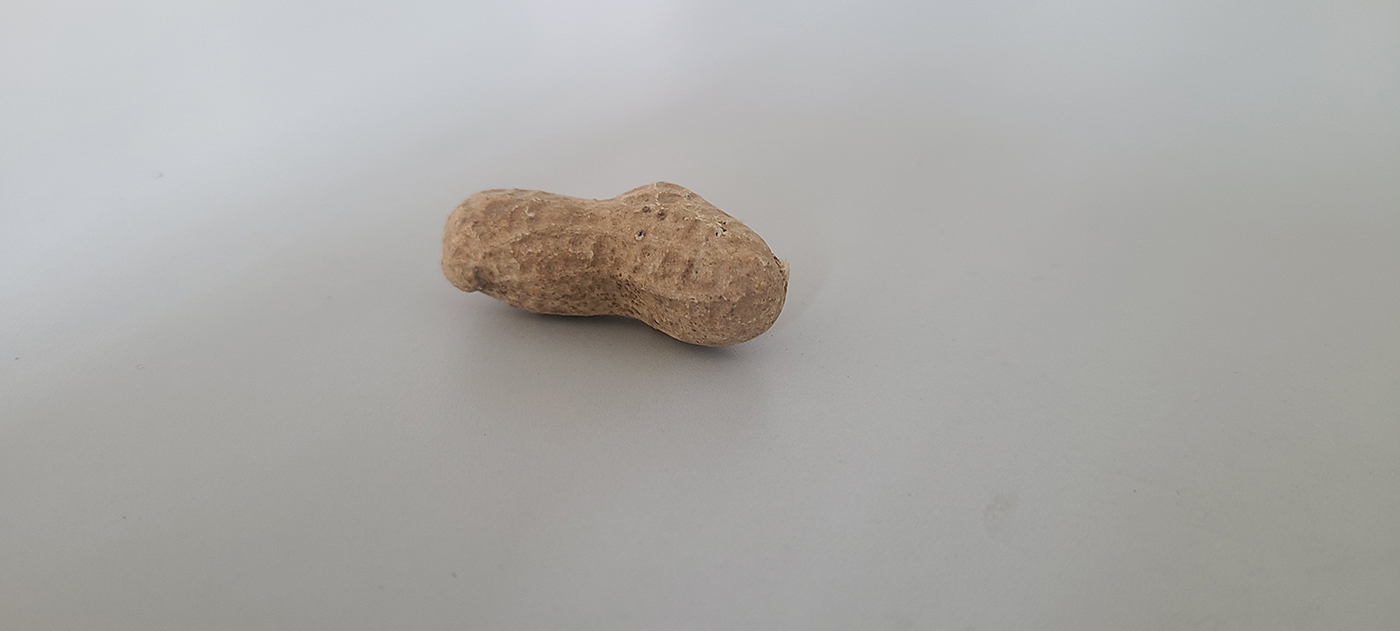h: (437, 175, 791, 346)
